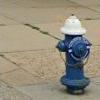a fire hydrant: (57, 14, 95, 90)
